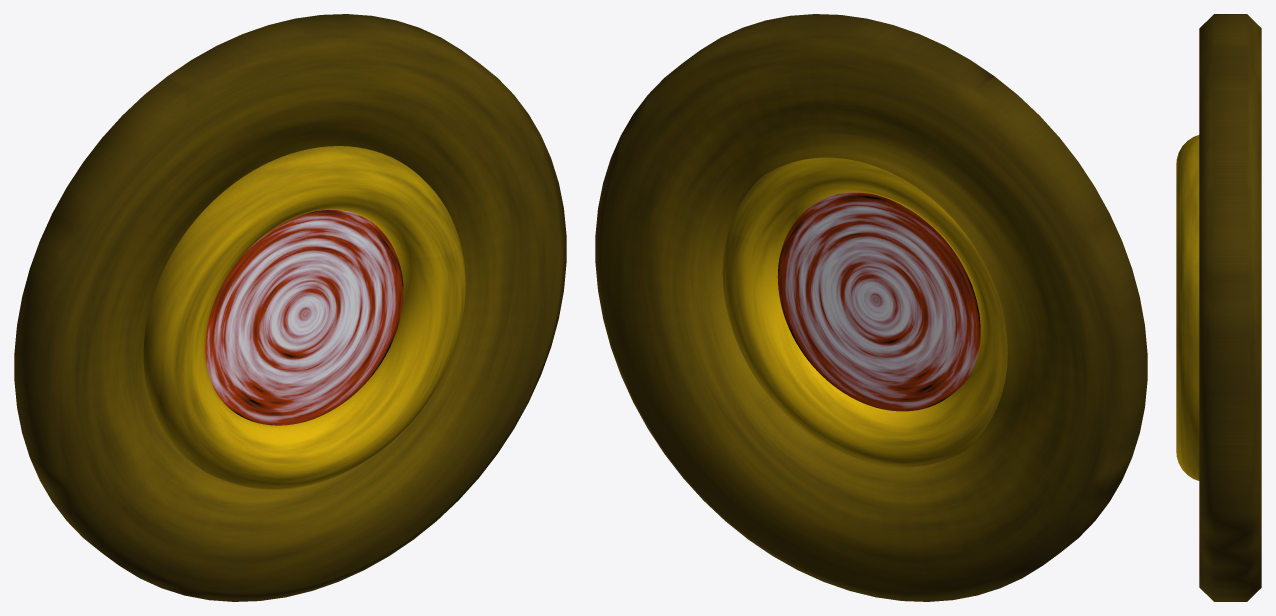
The model's file is blackhole.glb.
3 renders of one model, left to right at view 1: azimuth 30°, elevation 25°; view 2: azimuth 150°, elevation 25°; view 3: azimuth 270°, elevation 25°, orthographic. The views are drawn at different scales.
Visible parts, largest first — view 1: Circle_0; view 2: Circle_0; view 3: Circle_0.
Part boxes in pixels (x1,y1,x2,y2): Circle_0: [14, 14, 566, 601]; Circle_0: [595, 14, 1147, 601]; Circle_0: [1176, 14, 1261, 601].
Bounding box in the file's own units: 9.95 × 9.95 × 1.45.
Materials: 3 (3 with a texture image).
